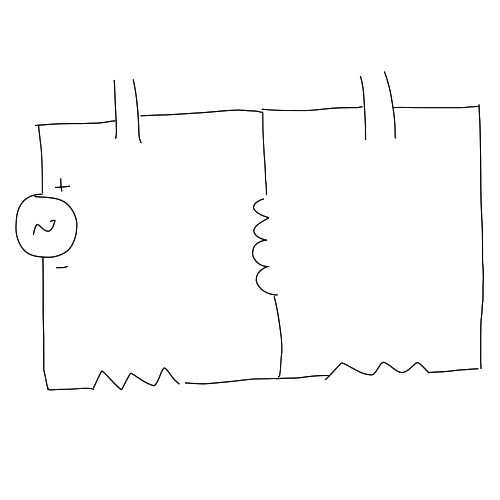acvs: (10, 176, 84, 273)
cap: (351, 61, 406, 145), (107, 70, 149, 150)
ind: (247, 190, 282, 305)
res: (87, 363, 200, 398), (318, 354, 437, 383)
